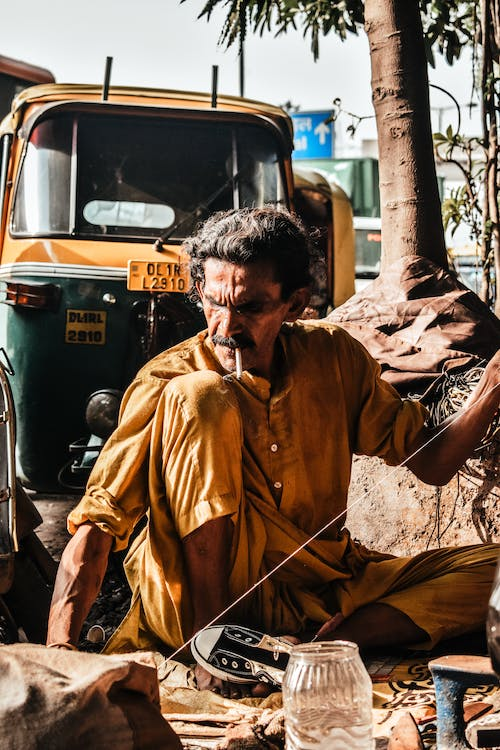cigarette: (232, 348, 247, 383)
